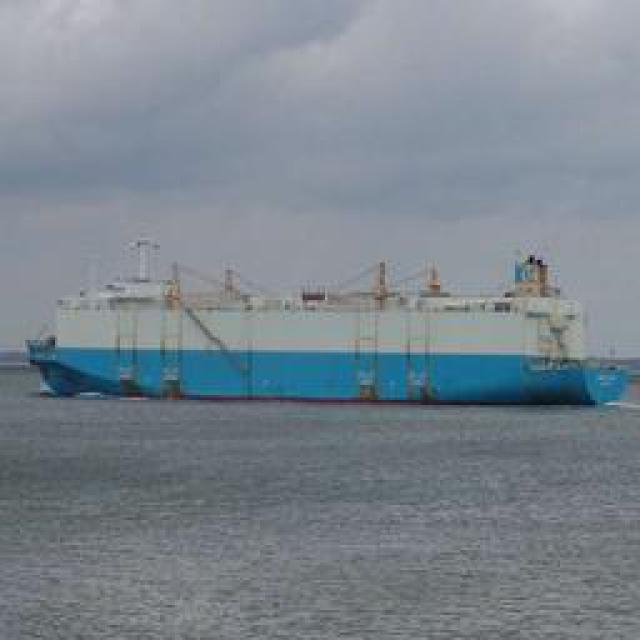Ship: (22, 254, 632, 407)
